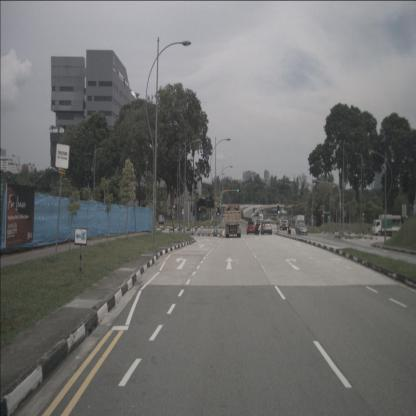vehicle-car: (296, 224, 308, 235), (246, 222, 256, 234)
vehicle-motorcycle: (255, 220, 260, 235), (288, 221, 292, 234)
vehicle-truck: (372, 215, 401, 236), (226, 205, 240, 238), (276, 211, 288, 231), (295, 215, 305, 233), (258, 214, 264, 223)
